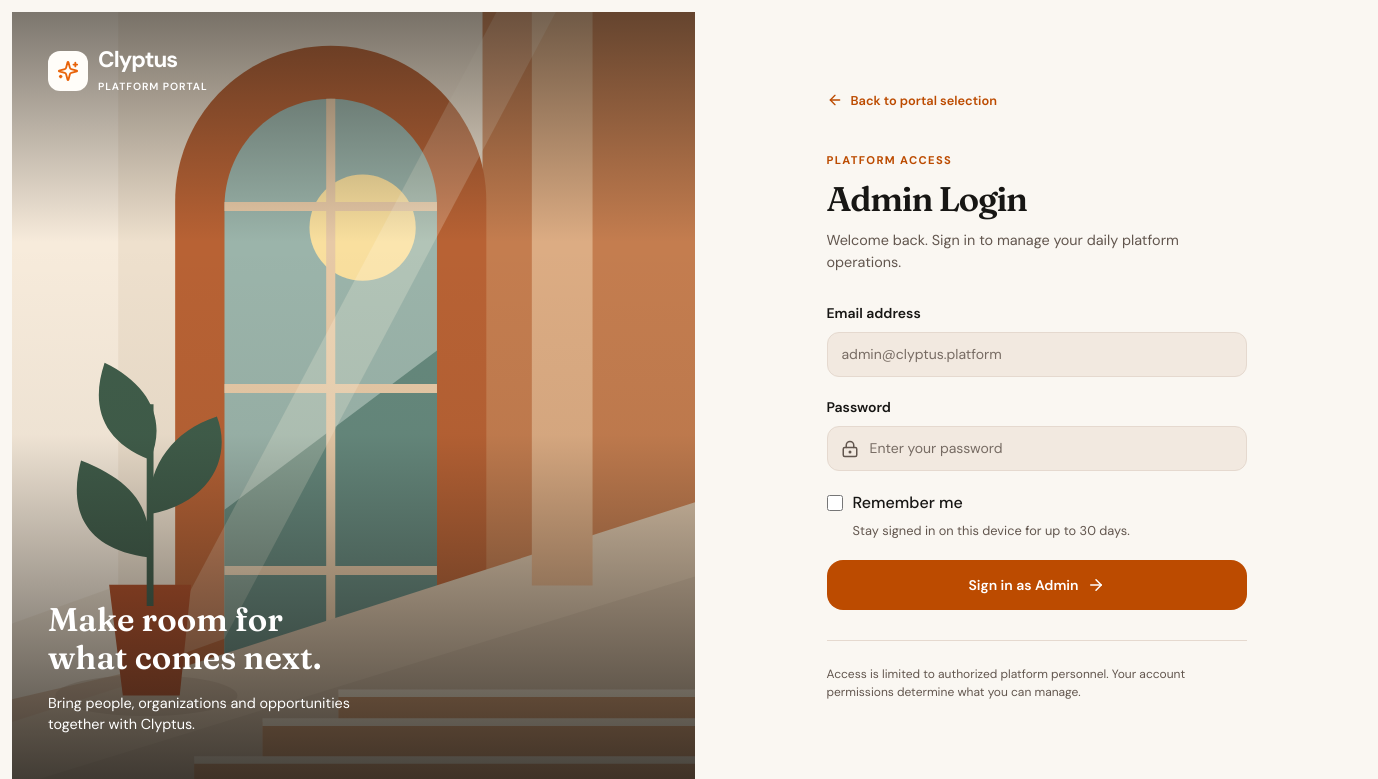
Shared landing and separate login pages › opens the Admin direct URL and submits its role
Expected: the number of forms is 1, [826,303,1246,610]
Type "person@example.test" into the field labelled "Email address". click: (1036, 355)
box: [826,332,1246,377]
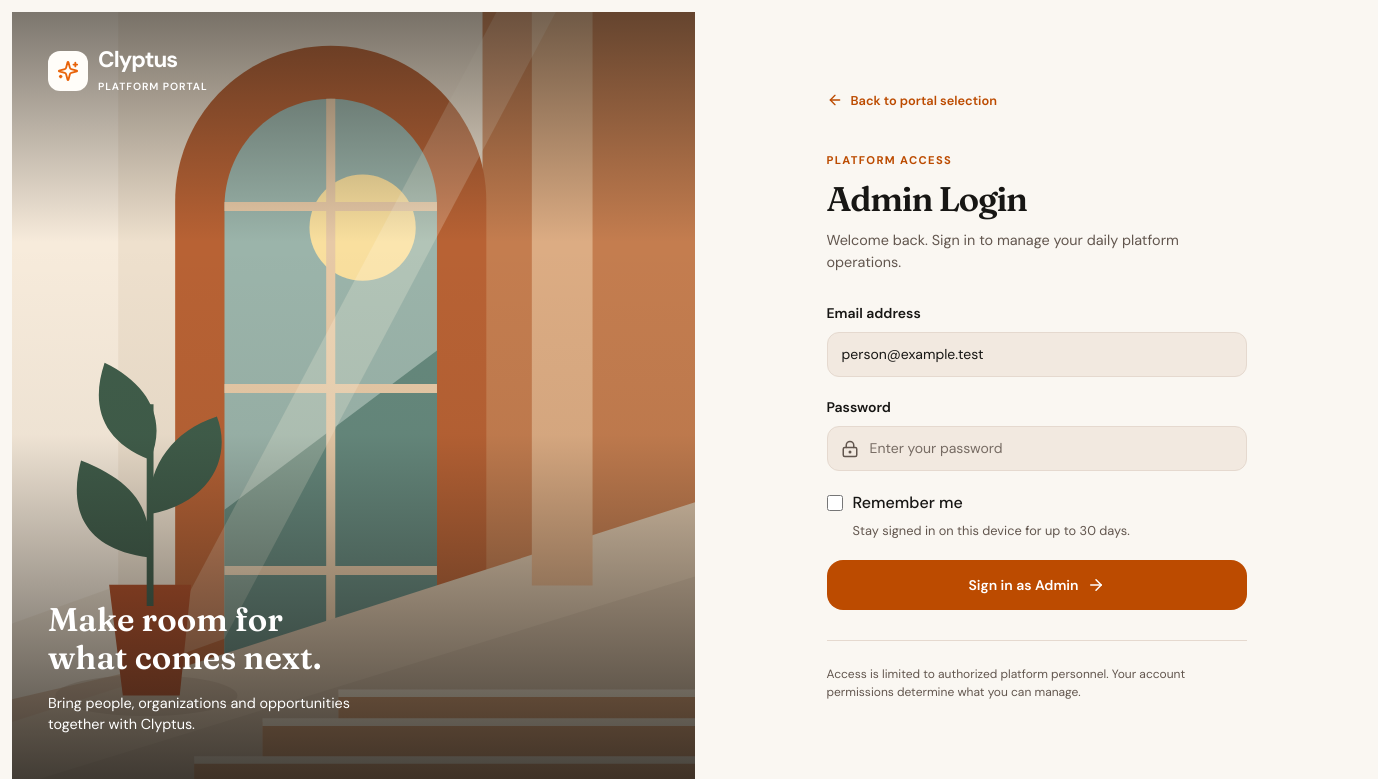
Type "StrongPassword!123" into the password field labelled "Password". click: (1036, 449)
box: [826,426,1246,471]
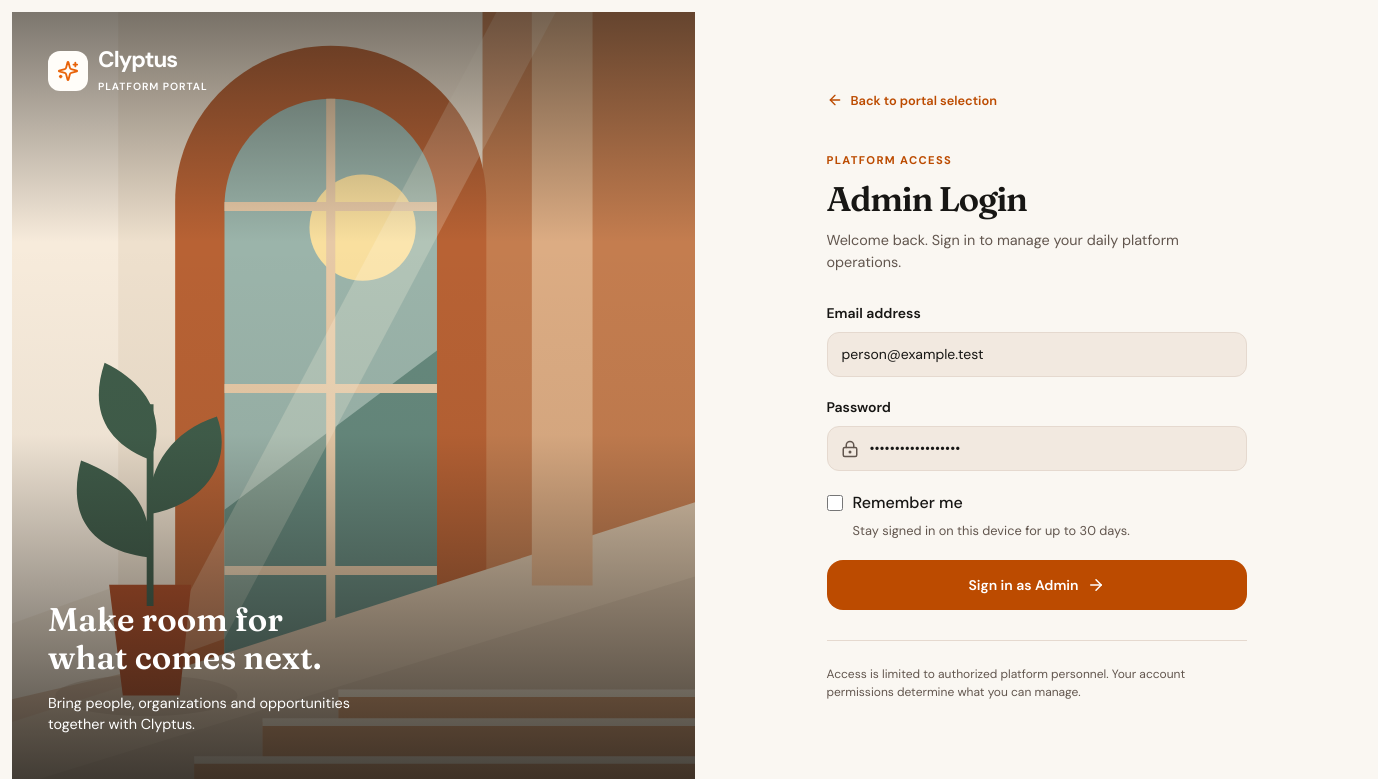
Click the button. click: (1036, 586)
box: [826,560,1246,610]
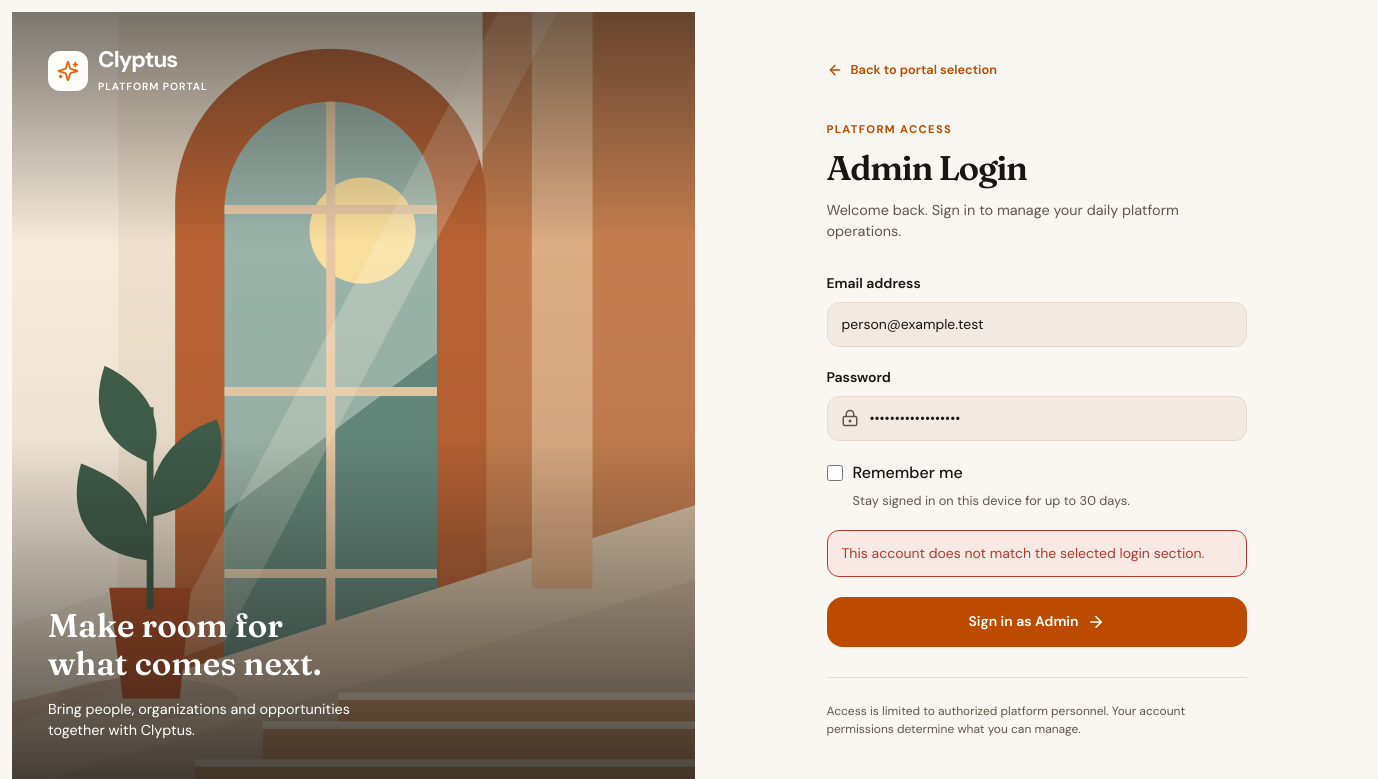
Now the message "This account does not match the selected login section." is shown, box [826,530,1246,577]
Click the link "Back to portal selection". click: (912, 70)
box: [826,60,997,79]
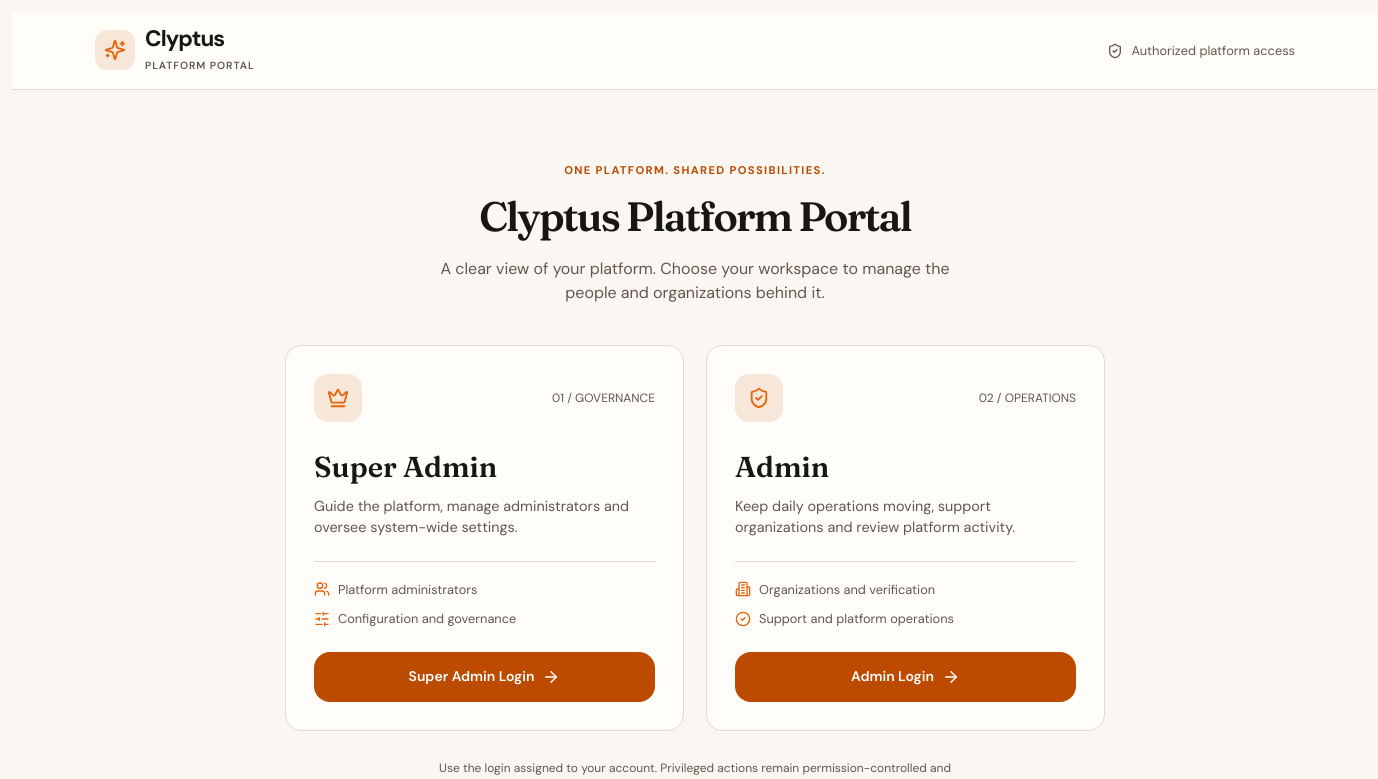
Now the message "This account does not match the selected login section." is gone
